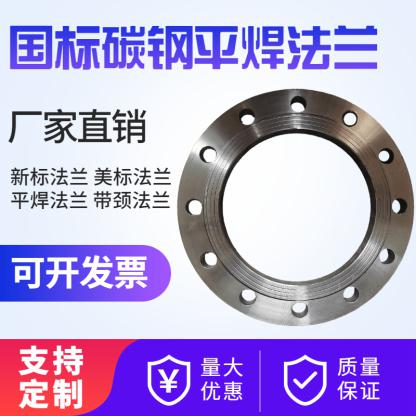FOD: (172, 83, 416, 330)
